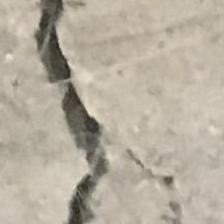Crack: (29, 0, 170, 224)
